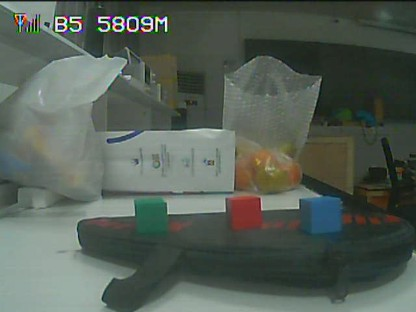b: (299, 198, 338, 231)
g: (135, 199, 166, 231)
r: (227, 196, 260, 226)
